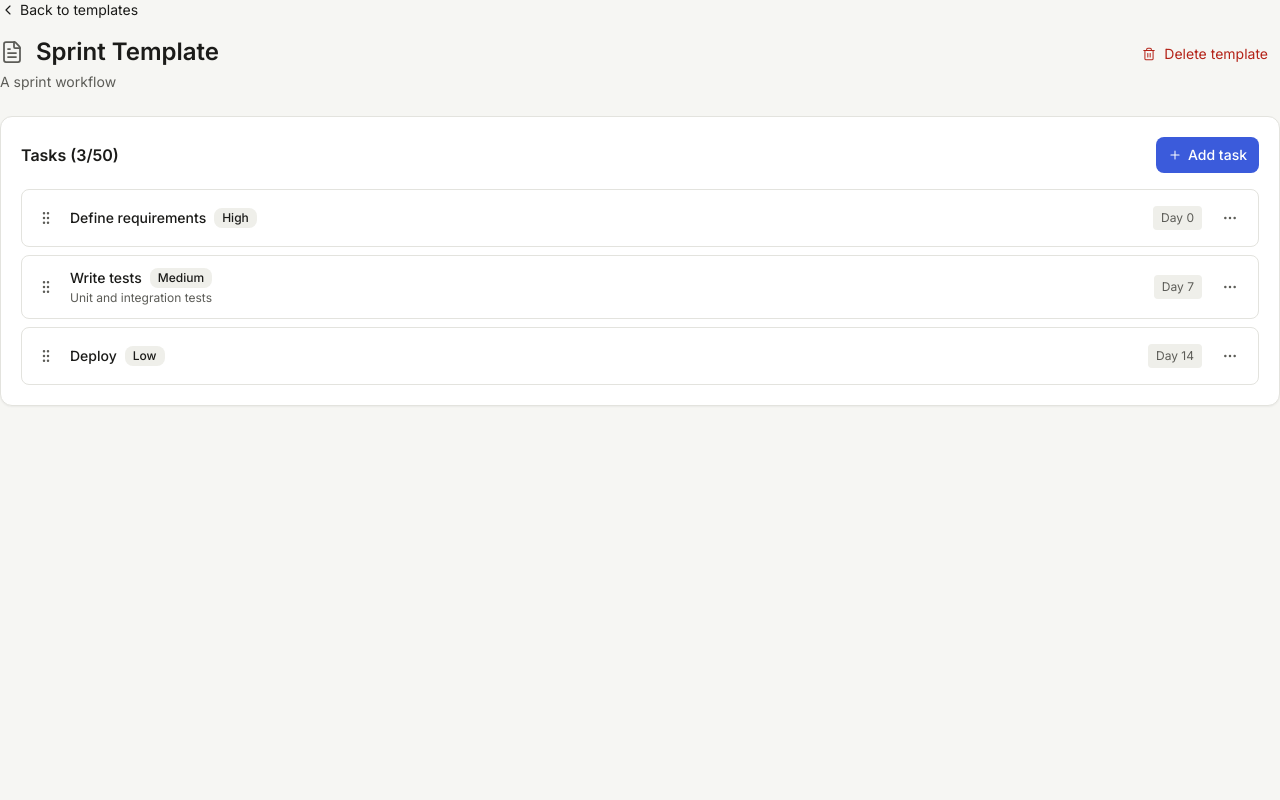
TemplateDetailPage › edit task via actions menu opens edit dialog
Click the button named "actions for define requirements": (1230, 218) left=1214, top=202, right=1246, bottom=234
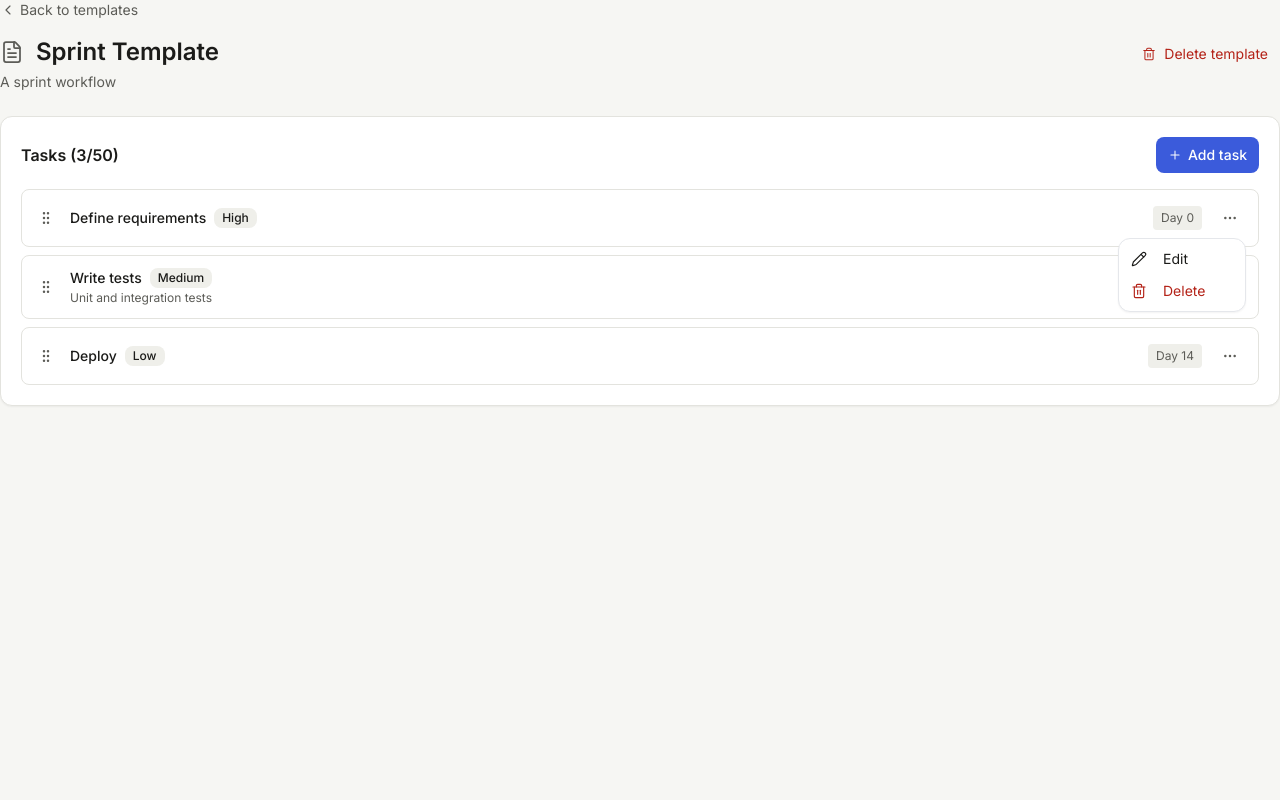
Click the menu item "Edit": (1139, 259) left=1131, top=250, right=1188, bottom=267
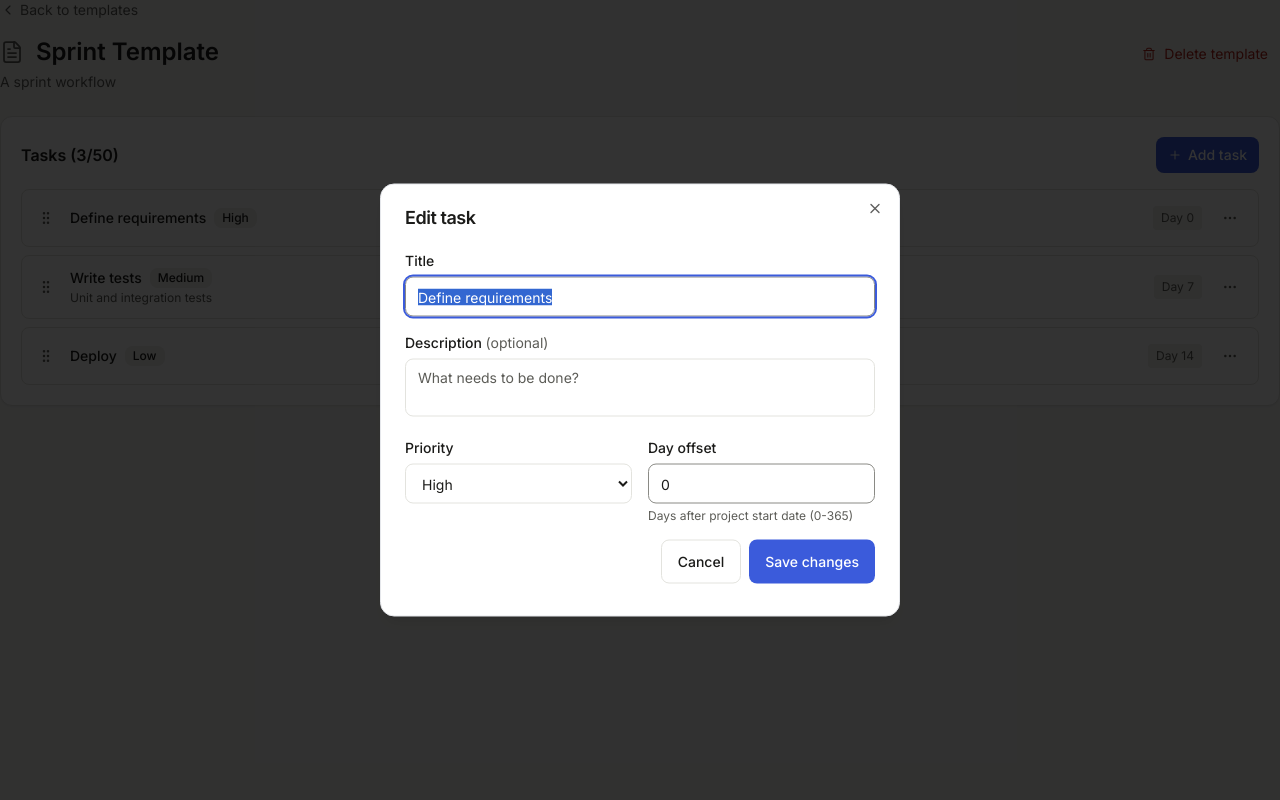
Check: the heading "Edit task" is shown, box left=405, top=206, right=476, bottom=228
